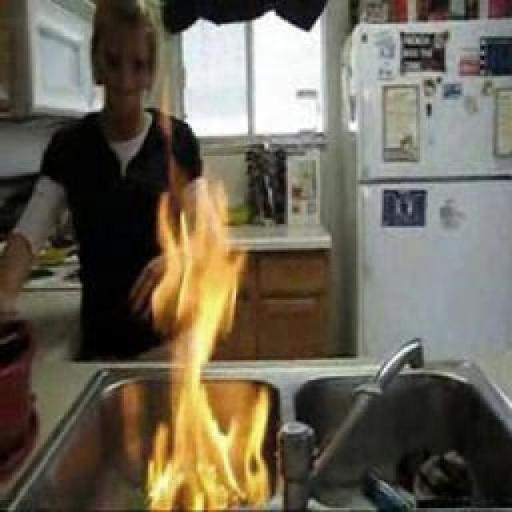smoke: (148, 180, 270, 512)
